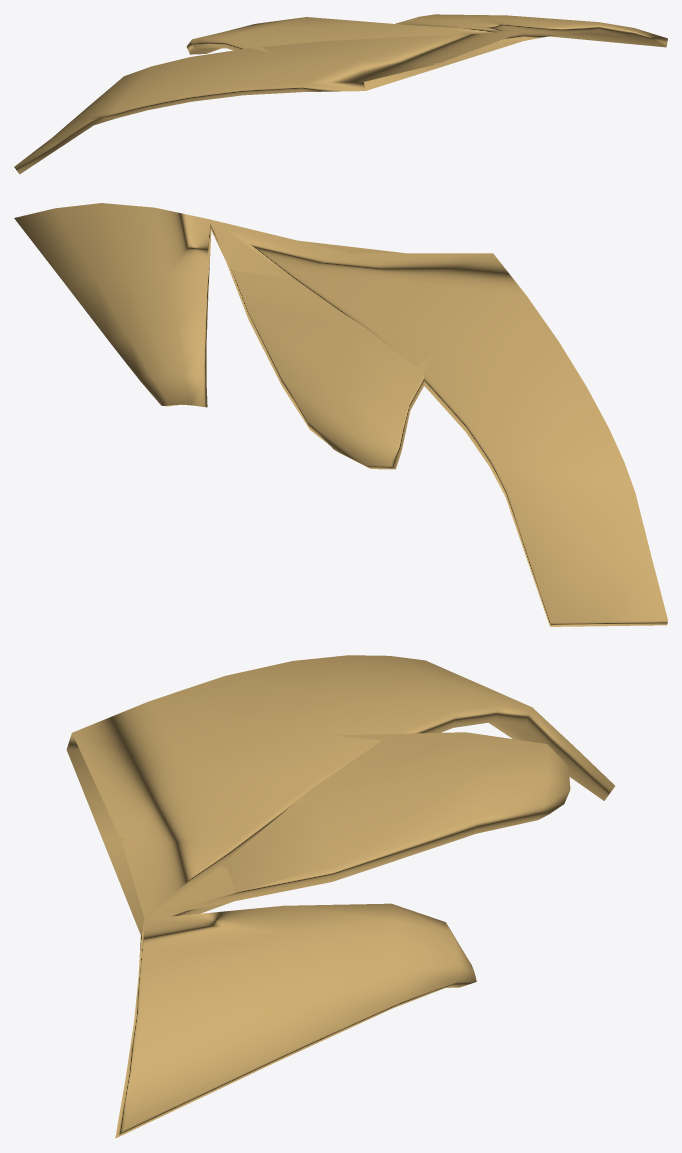
The picture shows the model from 3 angles, top to bottom: view 1: azimuth 30°, elevation 25°; view 2: azimuth 150°, elevation 25°; view 3: azimuth 270°, elevation 25°; orthographic projection. The views are drawn at different scales.
Parts seen in each view (by area): view 1: 左侧桡腕背侧韧带; view 2: 左侧桡腕背侧韧带; view 3: 左侧桡腕背侧韧带.
Part boxes in pixels (x1,y1,x2,y2): 左侧桡腕背侧韧带: (14,14,667,174); 左侧桡腕背侧韧带: (14,203,667,626); 左侧桡腕背侧韧带: (66,655,614,1138).
Bounding box in the file's own units: 0.0497 × 0.0102 × 0.0214.
